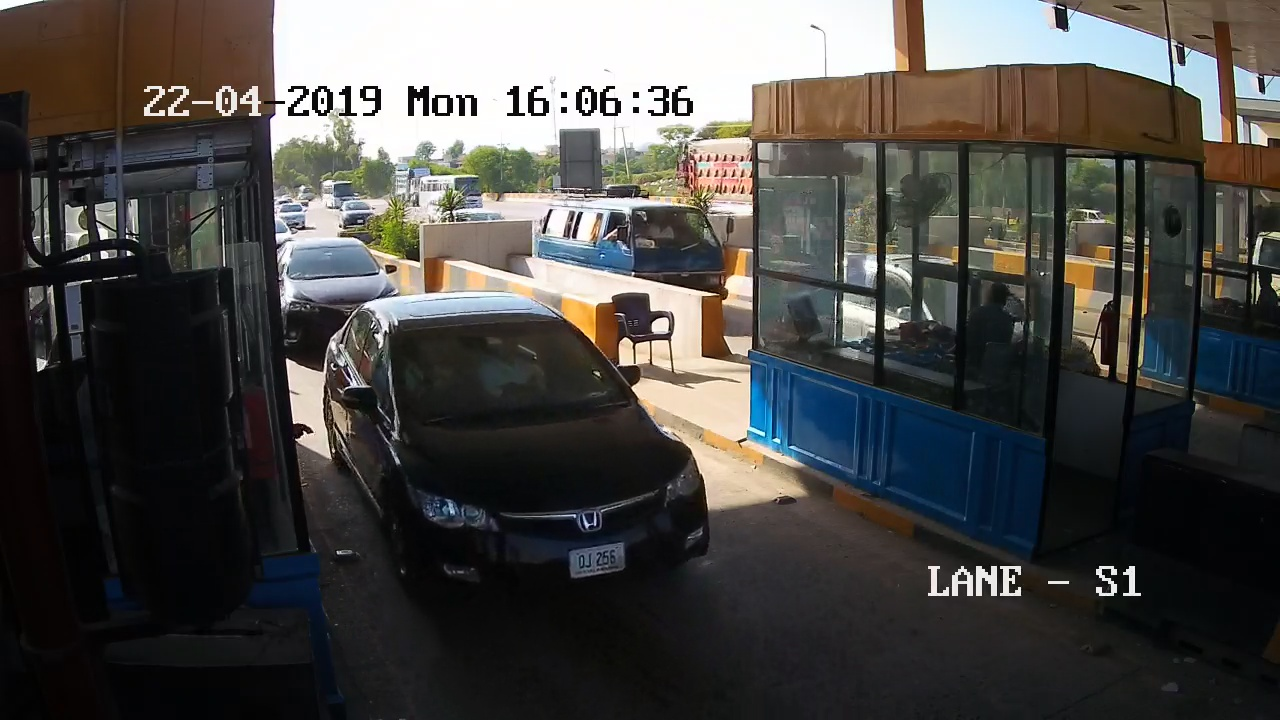Number Plate (Car): (565, 544, 629, 578)
